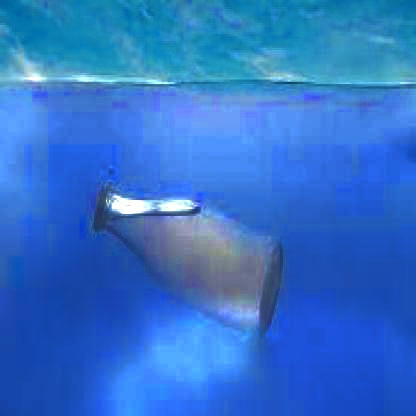gbottle: (86, 175, 288, 348)
